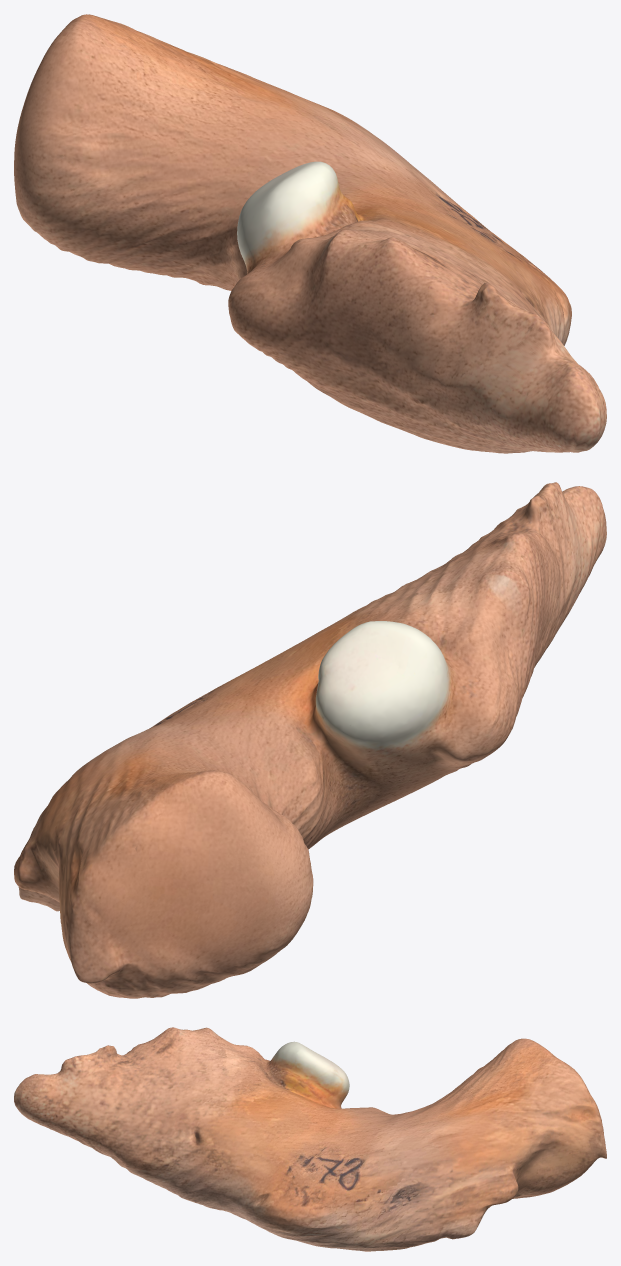
The model's file is cene sumuyu.glb.
3 renders of one model, top to bottom at view 1: azimuth 30°, elevation 25°; view 2: azimuth 150°, elevation 25°; view 3: azimuth 270°, elevation 25°, orthographic. The views are drawn at different scales.
Parts seen in each view (by area): view 1: tripo_node_3743466a-9a52-4834-a2dd-afa92167e046; view 2: tripo_node_3743466a-9a52-4834-a2dd-afa92167e046; view 3: tripo_node_3743466a-9a52-4834-a2dd-afa92167e046.
Boxes of the visible parts, x1=… form: tripo_node_3743466a-9a52-4834-a2dd-afa92167e046: x1=14, y1=14, x2=606, y2=453; tripo_node_3743466a-9a52-4834-a2dd-afa92167e046: x1=14, y1=482, x2=606, y2=998; tripo_node_3743466a-9a52-4834-a2dd-afa92167e046: x1=14, y1=1027, x2=606, y2=1251.
Size of the model in its own units: 0.3848 by 0.2964 by 0.999.
1 material, 1 textured.
